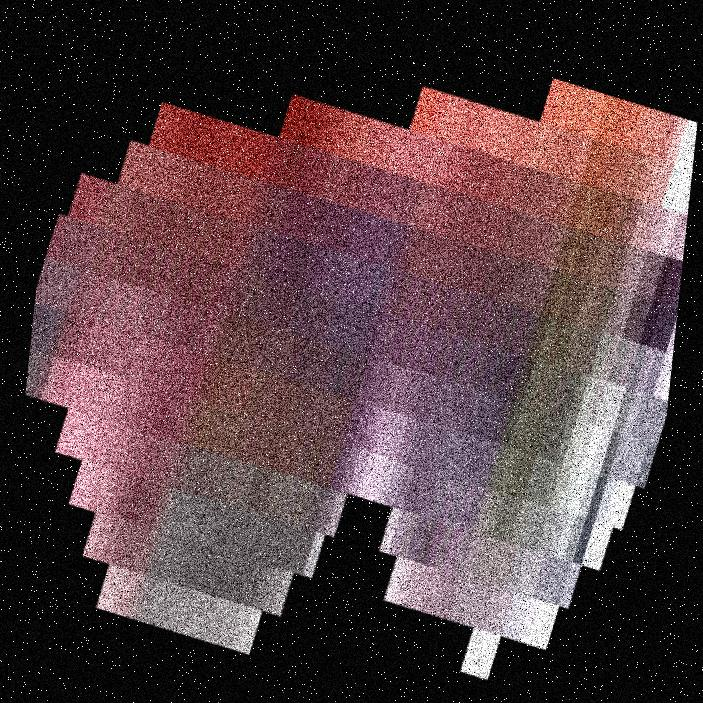Oculos: (135, 0, 702, 702)
